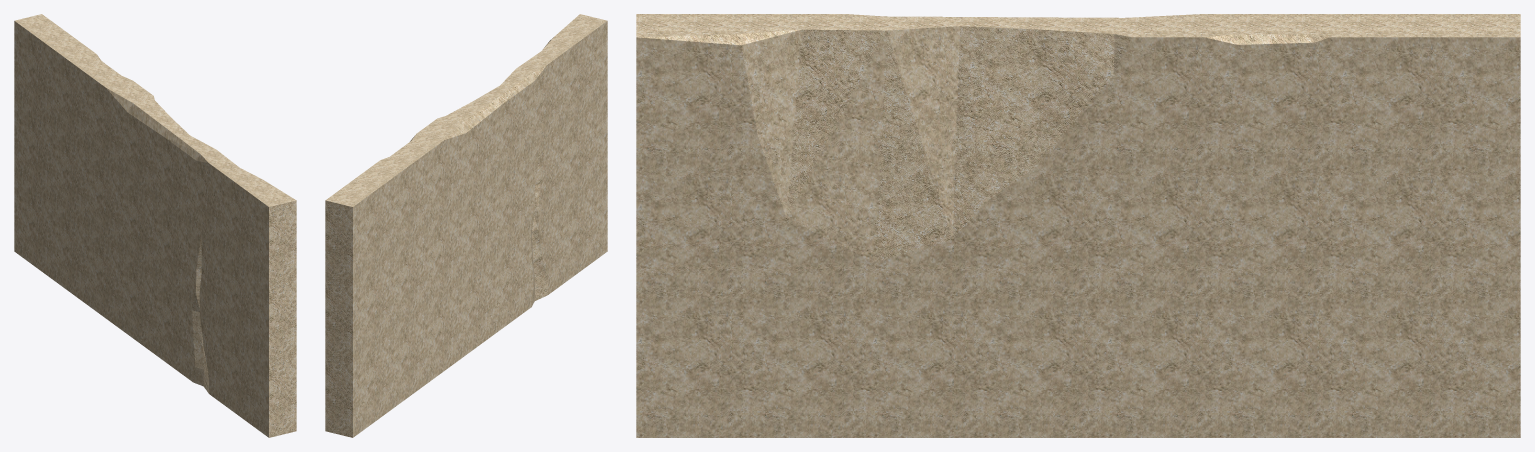
The model's file is thm_tato_imprv_wall_damaged_s01_l0.fbx.
3 renders of one model, left to right at view 1: azimuth 30°, elevation 25°; view 2: azimuth 150°, elevation 25°; view 3: azimuth 270°, elevation 25°, orthographic. The views are drawn at different scales.
Parts seen in each view (by area): view 1: mesh_node; view 2: mesh_node; view 3: mesh_node.
Part boxes in pixels (left/top/right/bottom): mesh_node: left=14, top=14, right=296, bottom=437; mesh_node: left=325, top=14, right=607, bottom=437; mesh_node: left=636, top=14, right=1520, bottom=437.
Size of the model in its own units: 0.5 by 4 by 8.
